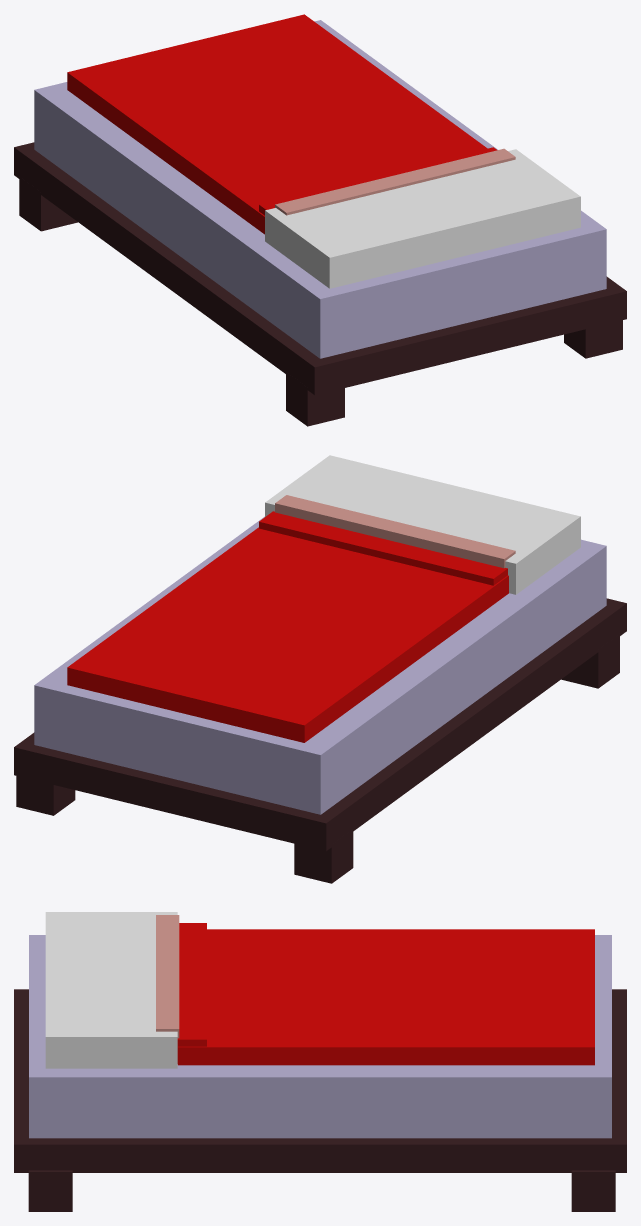
File: Bed.fbx
3 views of the same model, one above another, from view 1: azimuth 30°, elevation 25°; view 2: azimuth 150°, elevation 25°; view 3: azimuth 270°, elevation 25° (orthographic).
Parts seen in each view (by area): view 1: Cube.007, Cube.005, Cube.006, Cube.004, Cube.009, Cube.001, Cube.002, Cube, Cube.008; view 2: Cube.007, Cube.005, Cube.004, Cube.006, Cube.008, Cube.009, Cube.002, Cube.003, Cube.001; view 3: Cube.007, Cube.005, Cube.004, Cube.006, Cube.008, Cube.009, Cube.003, Cube.
Part boxes in pixels (x1,y1,x2,y2): Cube.007: (67, 14, 487, 234); Cube.005: (34, 20, 606, 358); Cube.006: (265, 149, 580, 288); Cube.004: (14, 142, 626, 395); Cube.009: (275, 148, 515, 215); Cube.001: (286, 372, 344, 426); Cube.002: (19, 176, 77, 231); Cube: (564, 320, 622, 358); Cube.008: (259, 147, 497, 215); Cube.007: (67, 527, 508, 742); Cube.005: (34, 516, 606, 814); Cube.004: (14, 598, 626, 851); Cube.006: (265, 455, 580, 594); Cube.008: (259, 511, 507, 585); Cube.009: (275, 495, 515, 568); Cube.002: (294, 829, 353, 883); Cube.003: (16, 776, 75, 815); Cube.001: (561, 634, 619, 688); Cube.007: (178, 929, 594, 1065); Cube.005: (29, 935, 611, 1138); Cube.004: (14, 989, 626, 1172); Cube.006: (45, 912, 177, 1068); Cube.008: (177, 923, 206, 1063); Cube.009: (156, 915, 179, 1038); Cube.003: (571, 1170, 615, 1211); Cube: (28, 1170, 72, 1211).
Size of the model in its own units: 678 by 324 by 1119.
